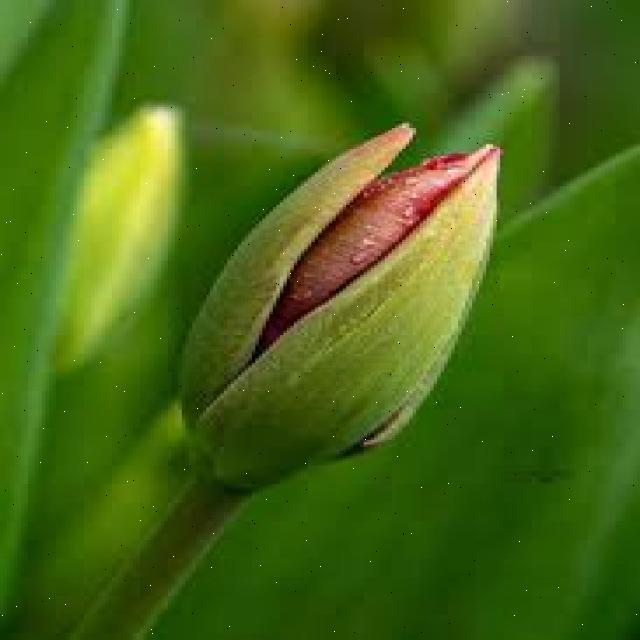Unbloomed: (168, 114, 503, 488)
